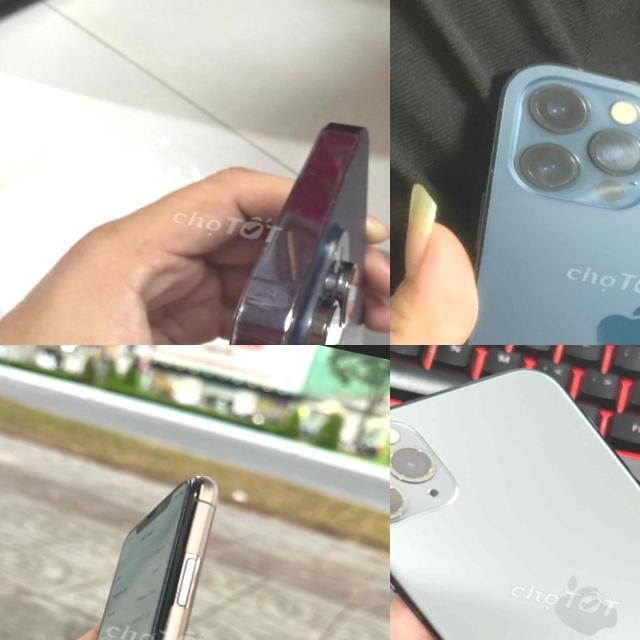gen_11: (390, 368, 640, 640), (15, 440, 266, 640)
gen_12_13: (404, 39, 640, 345)
gen_14: (193, 98, 390, 345)
